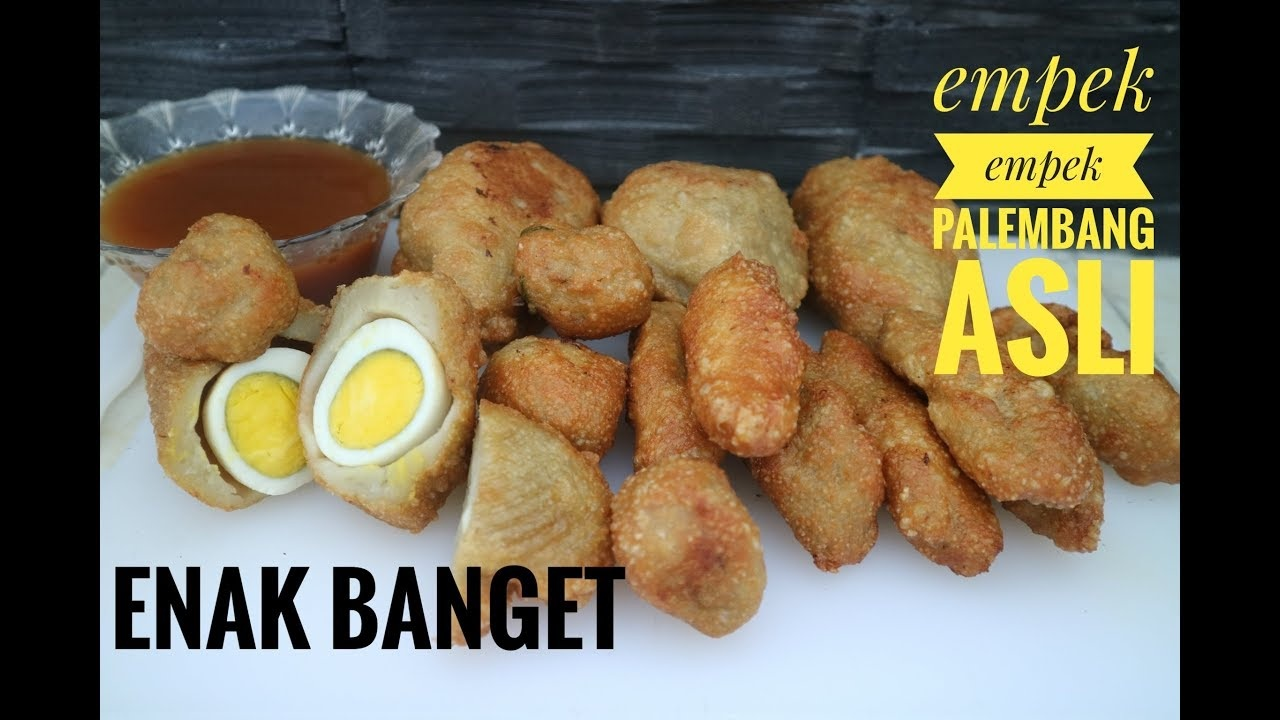pempek: (103, 70, 1180, 630)
